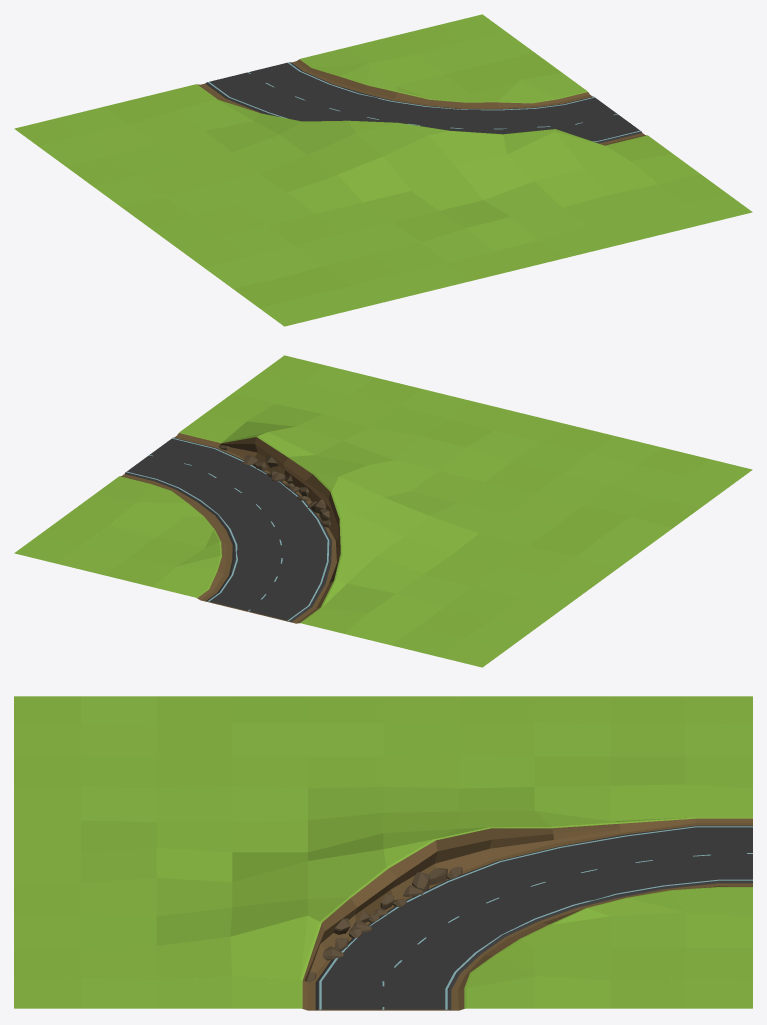
File: model_road_grass_cornor_2.fbx
The picture shows the model from 3 angles, top to bottom: view 1: azimuth 30°, elevation 25°; view 2: azimuth 150°, elevation 25°; view 3: azimuth 270°, elevation 25°; orthographic projection. The views are drawn at different scales.
Parts seen in each view (by area): view 1: model_road_grass_cornor_2; view 2: model_road_grass_cornor_2; view 3: model_road_grass_cornor_2.
Part boxes in pixels (box(x1,y1,x2,y2)): model_road_grass_cornor_2: box(14, 14, 752, 326); model_road_grass_cornor_2: box(14, 355, 752, 667); model_road_grass_cornor_2: box(14, 696, 752, 1010).
Bounding box in the file's own units: 6000 × 421 × 6000.
1 material, 1 textured.
